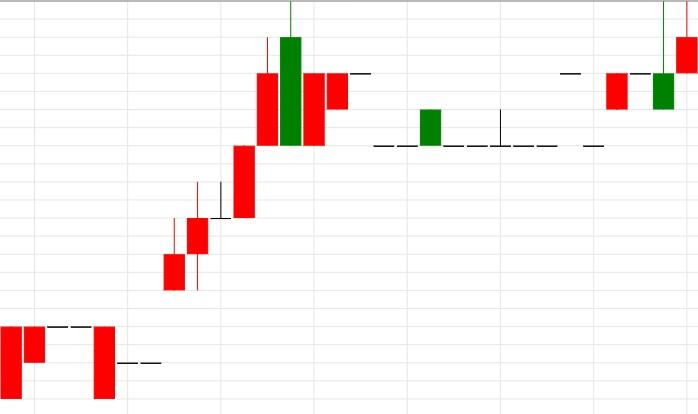bearish_engulfing_fall: (93, 0, 302, 399)
evening_star_fall: (583, 0, 675, 148)
